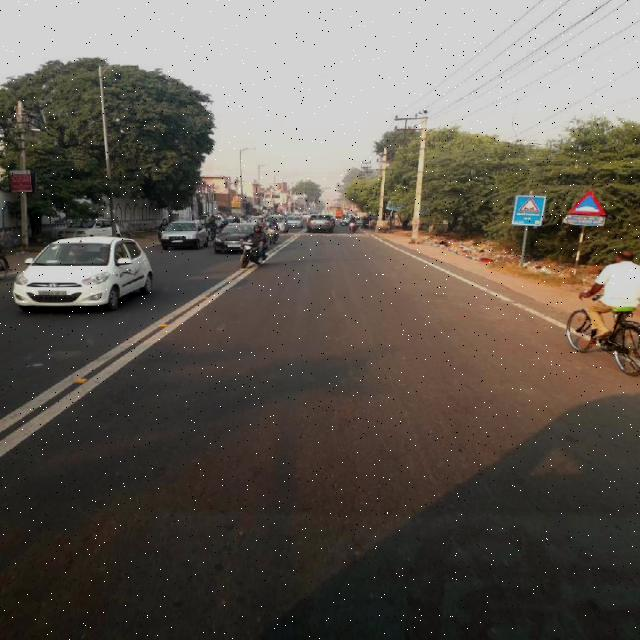D00: (351, 303, 487, 585)
